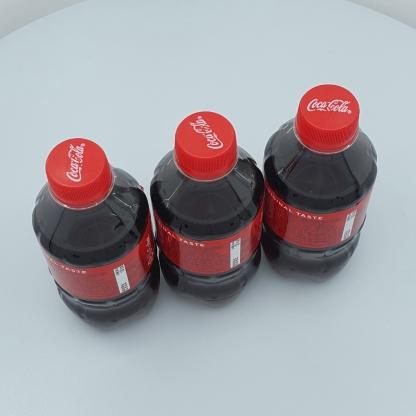--------300ML: (32, 138, 160, 331), (260, 84, 377, 283), (150, 111, 265, 308)
